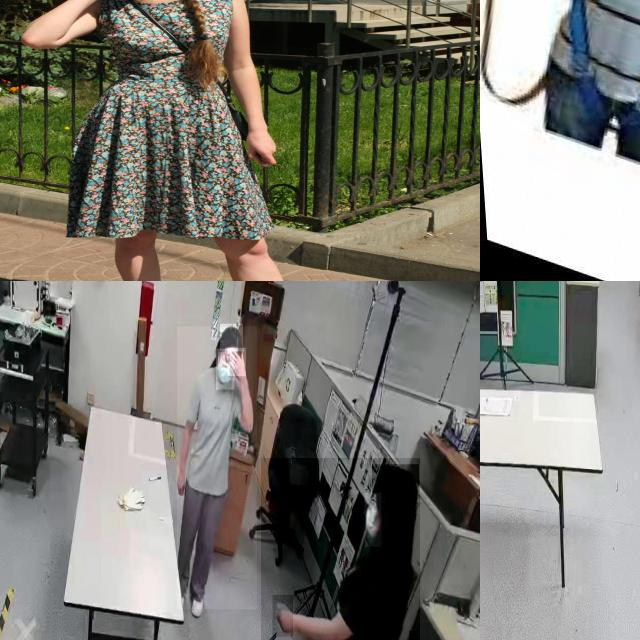face_mask: (364, 493, 382, 547), (216, 348, 234, 389)
hand_noglove: (272, 595, 294, 637), (228, 348, 246, 377), (176, 465, 186, 498)
head_nohelmet: (372, 464, 420, 494), (220, 324, 244, 351)
person: (261, 458, 420, 640), (177, 326, 257, 610)
shoes: (187, 575, 207, 621)
